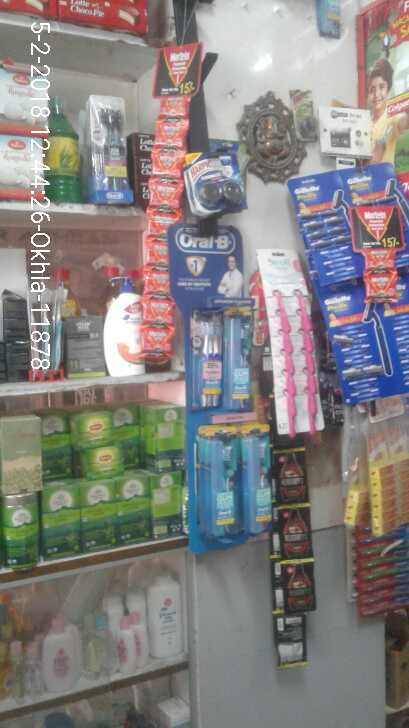oralb: (204, 427, 234, 531), (191, 299, 218, 410), (228, 312, 254, 411), (242, 433, 270, 523)
